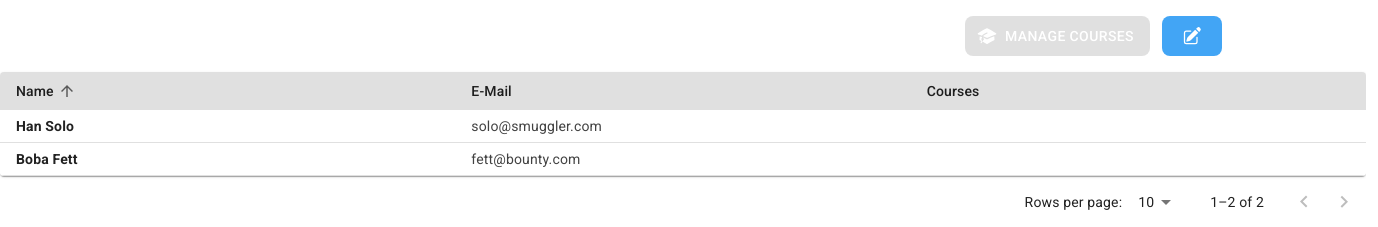
Test: StudentsList › handles student selection
Expected: the text "Han Solo" is shown, [0,110,455,143]
Click the text "Han Solo". click: (683, 127)
box: [0,110,1366,143]
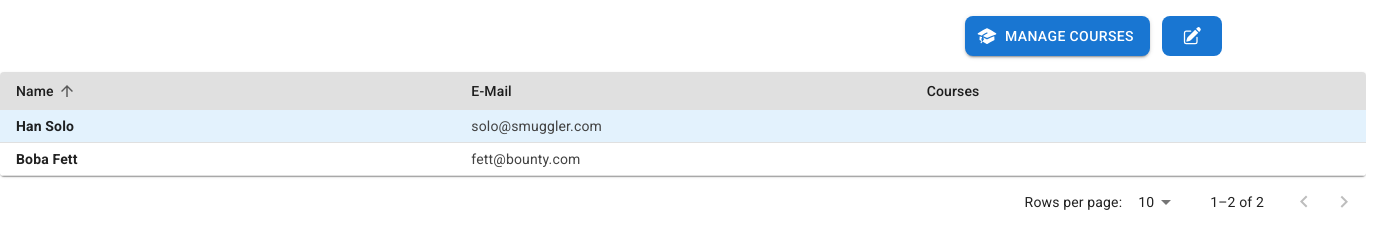
Now the 2nd button is enabled, box [1162,16,1222,56]
